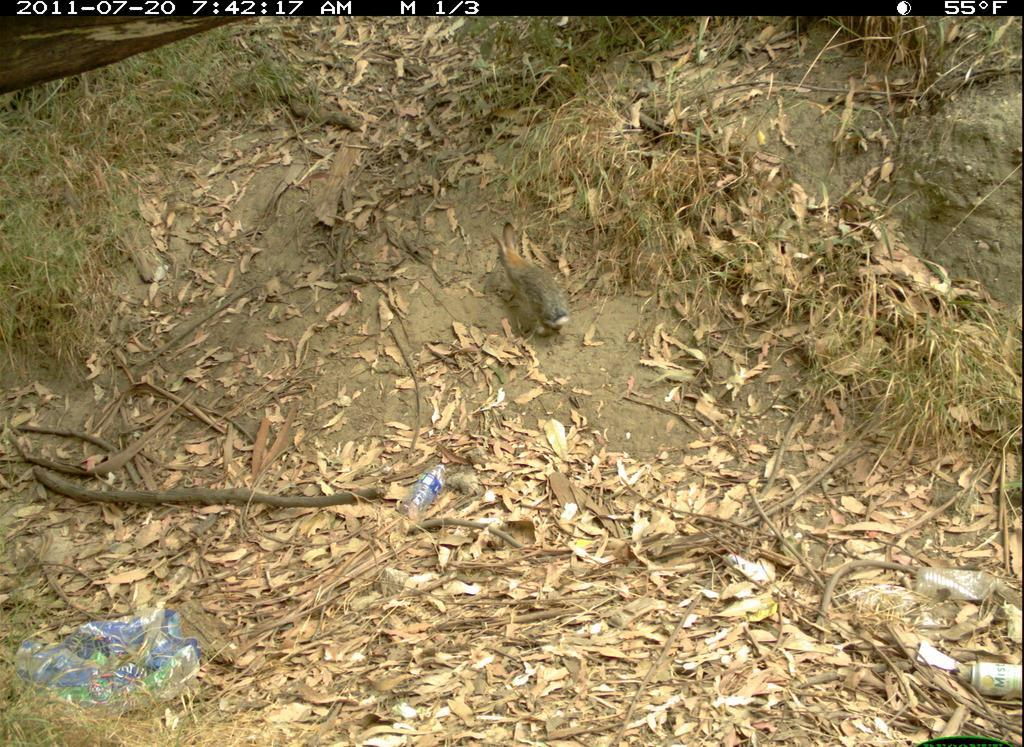rabbit: (484, 221, 575, 341)
